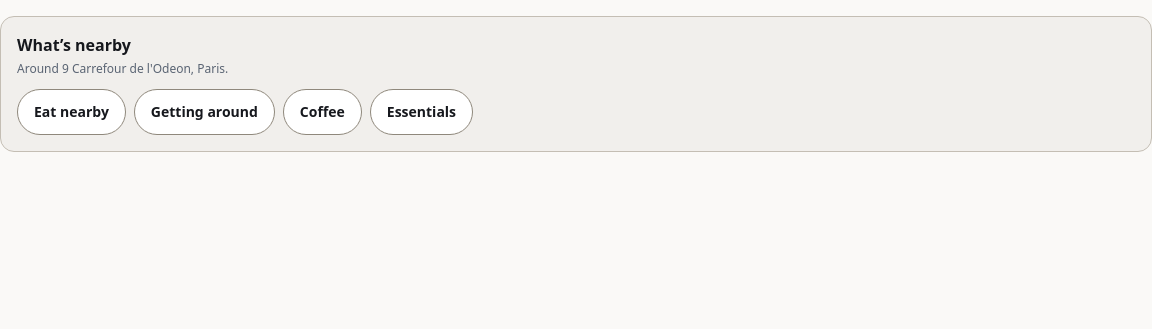
Scenario: the remaining count › says it plainly when the last one is gone
Click the button "Eat nearby".
click(71, 112)  # box [17,89,126,135]
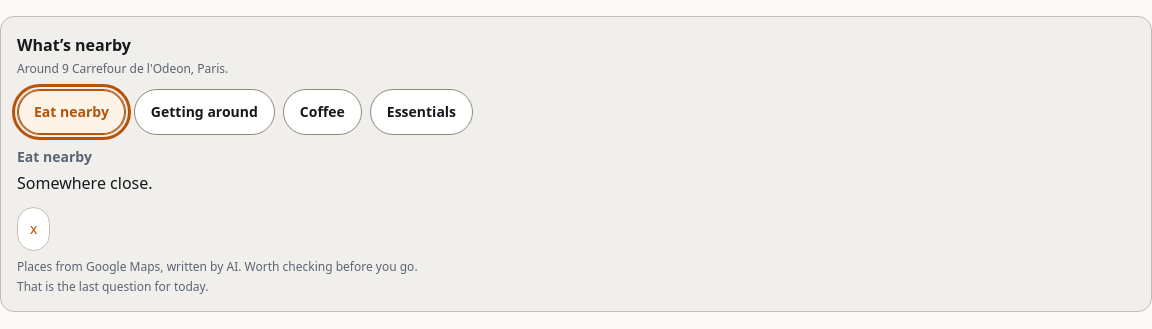
Expected: the text "That is the last question for today." is shown, [17,278,208,295]
